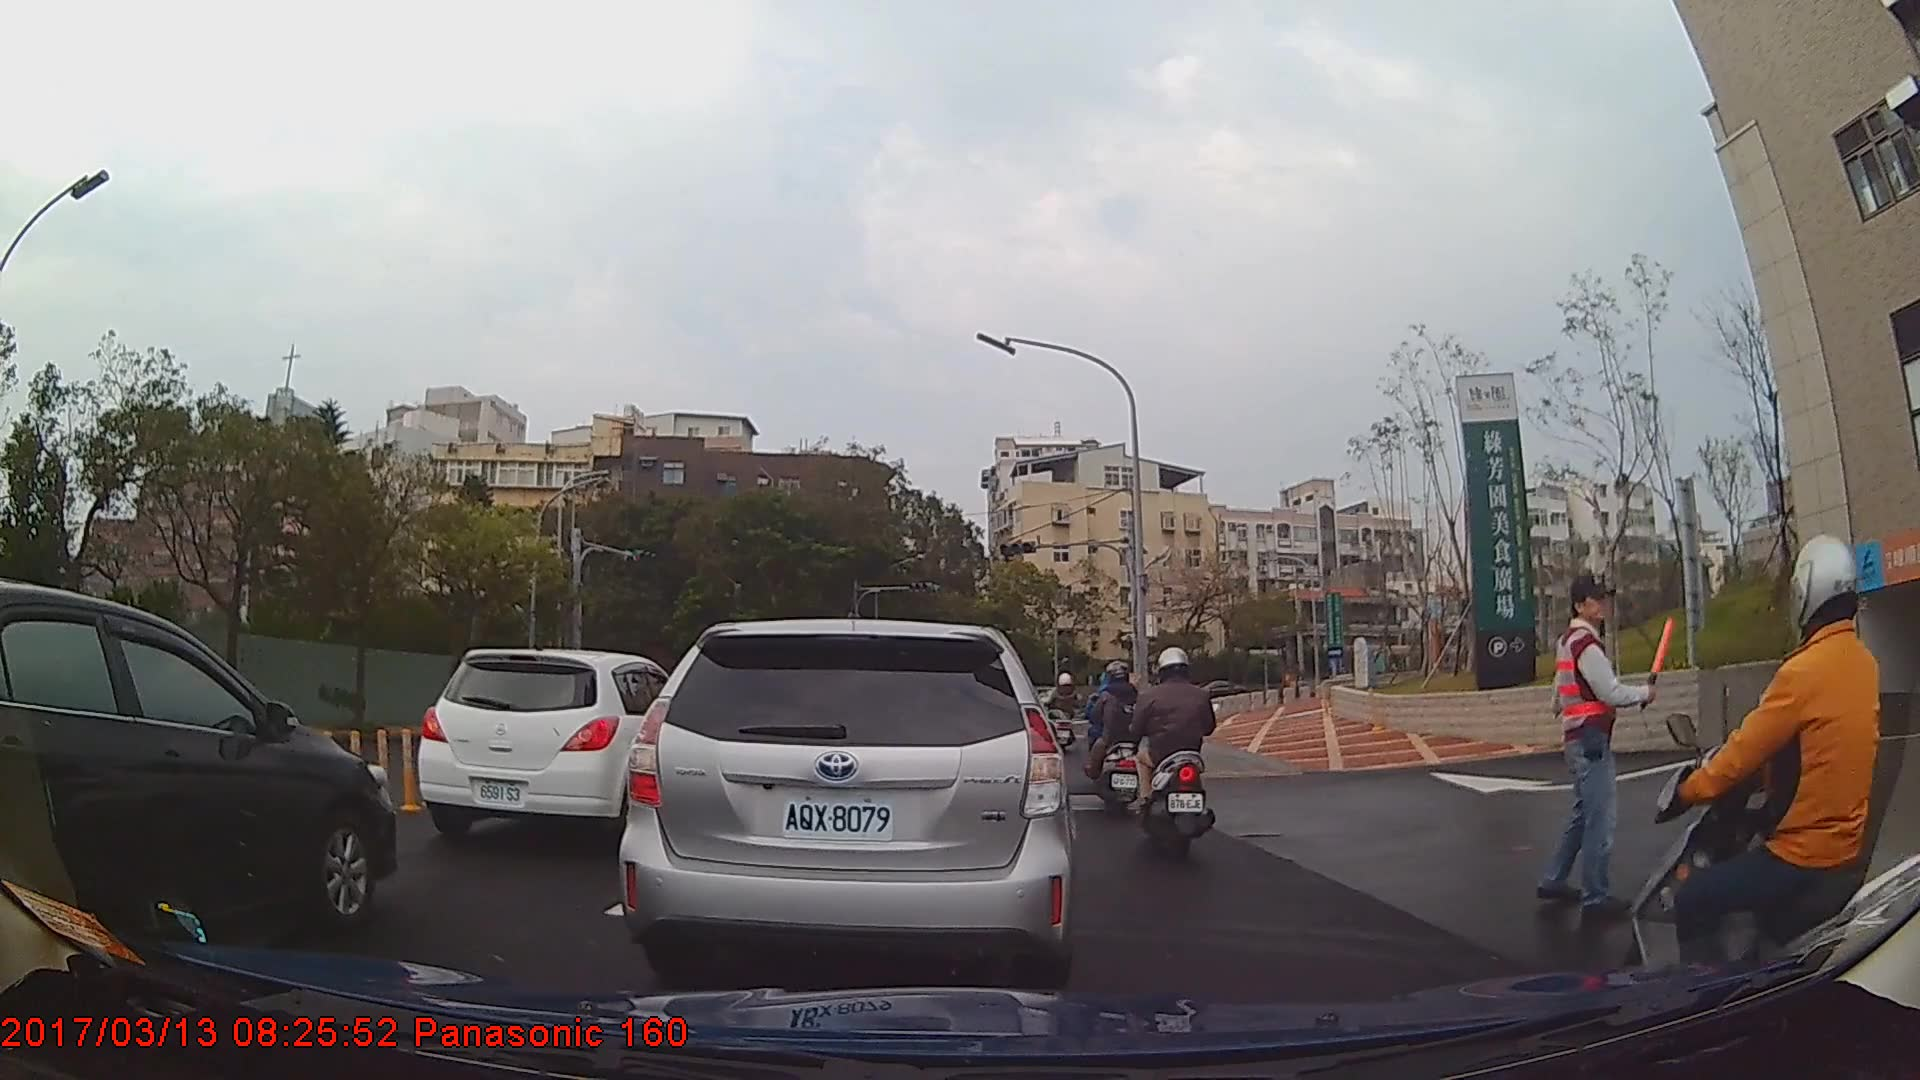pedestrian: (1542, 578, 1676, 912)
rider: (1600, 532, 1920, 1044), (1136, 645, 1215, 867), (1090, 661, 1147, 810), (1047, 671, 1080, 758)
vehicle: (619, 619, 1070, 984), (0, 580, 399, 961), (415, 649, 711, 845)
